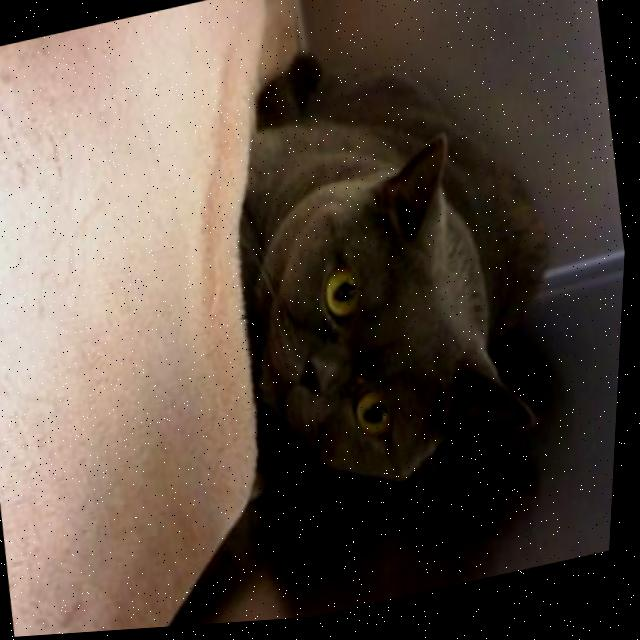British Shorthair: (185, 0, 600, 524)
